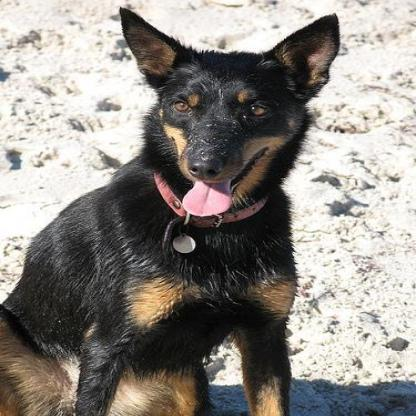kelpie: (0, 4, 339, 413)
